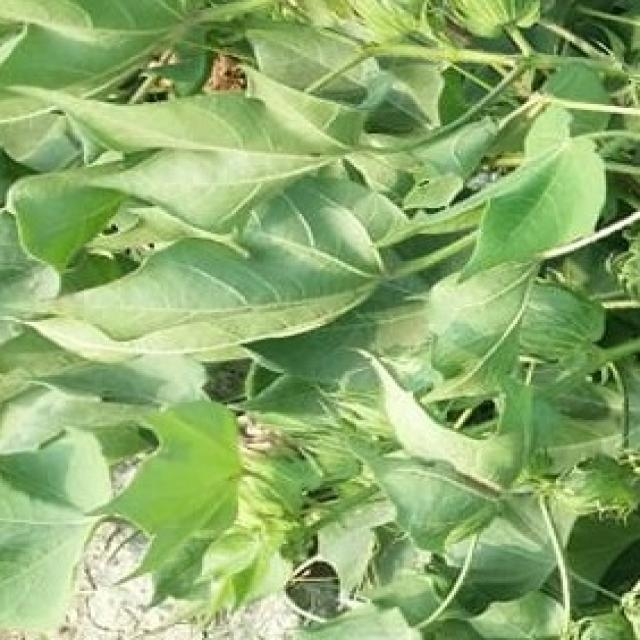Healthy Leaf: (1, 4, 640, 640)
